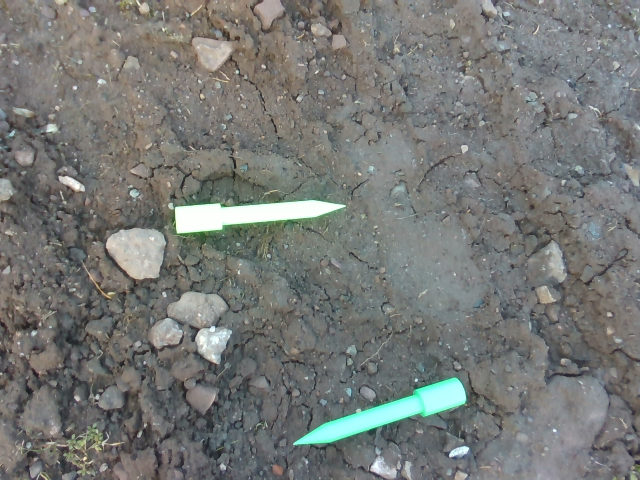Probe: (285, 370, 474, 454), (170, 197, 350, 238)
